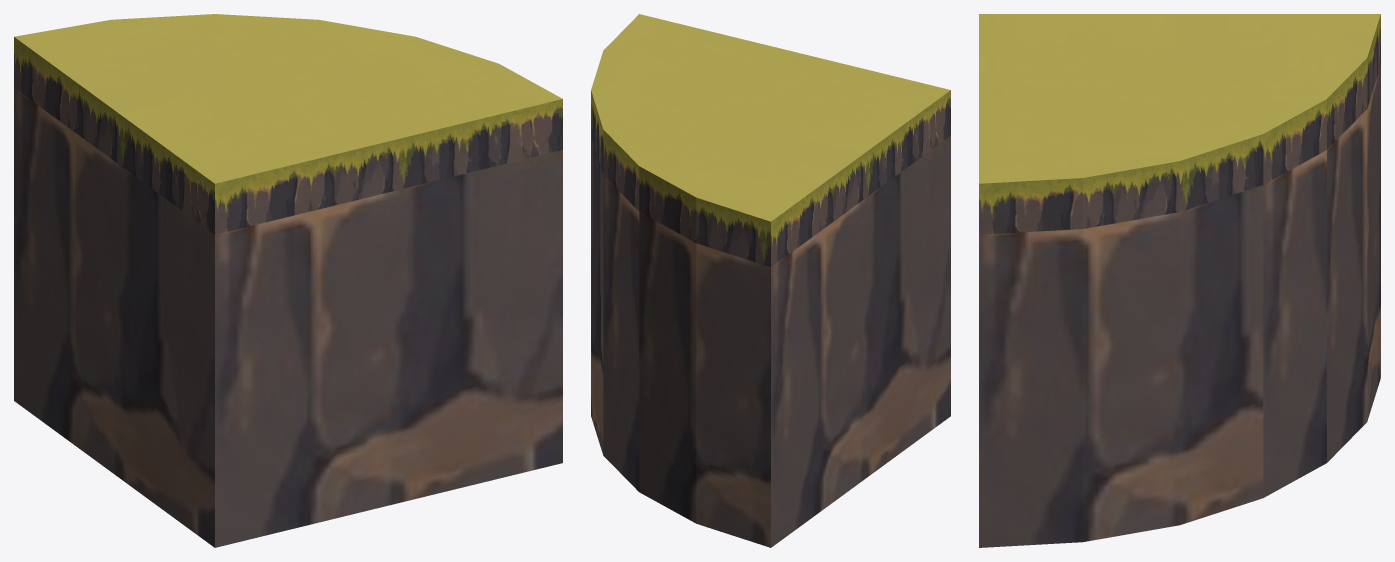
File: rc_terrain_islandedge_rounded_8m.glb
The picture shows the model from 3 angles, left to right: view 1: azimuth 30°, elevation 25°; view 2: azimuth 150°, elevation 25°; view 3: azimuth 270°, elevation 25°; orthographic projection. The views are drawn at different scales.
Visible parts, largest first — view 1: SM_RC_Terrain_IslandEdge_Rounded_8m; view 2: SM_RC_Terrain_IslandEdge_Rounded_8m; view 3: SM_RC_Terrain_IslandEdge_Rounded_8m.
Boxes of the visible parts, left/top/right/bottom form: SM_RC_Terrain_IslandEdge_Rounded_8m: left=14, top=14, right=562, bottom=547; SM_RC_Terrain_IslandEdge_Rounded_8m: left=591, top=14, right=950, bottom=547; SM_RC_Terrain_IslandEdge_Rounded_8m: left=979, top=14, right=1380, bottom=547.
Bounding box in the file's own units: 8 × 8 × 8.
1 material, 1 textured.
